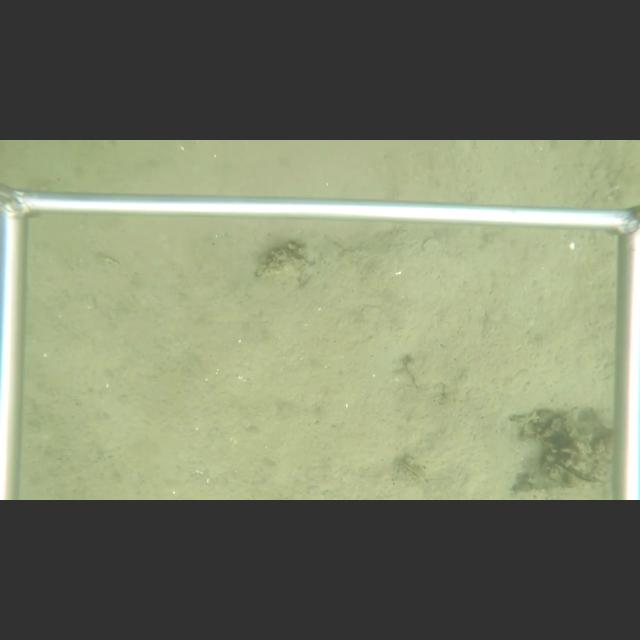Oyster-Closed: (395, 459, 430, 484)
